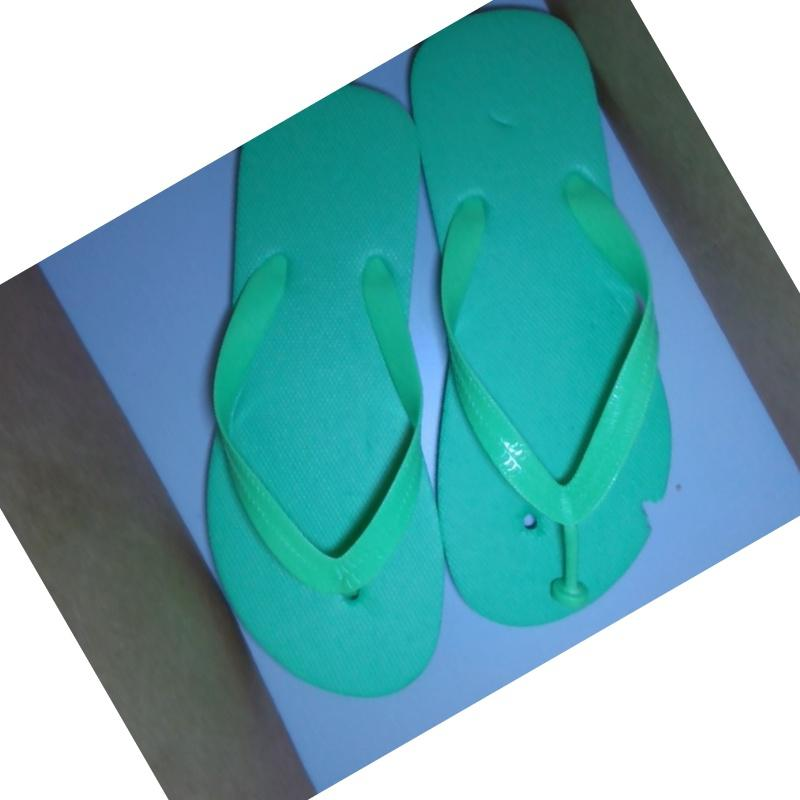chipped: (629, 478, 678, 551)
detached: (545, 531, 599, 618)
